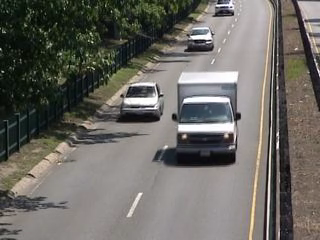car: (119, 82, 166, 125), (185, 25, 217, 53), (214, 1, 235, 18)
truck: (170, 70, 245, 165)
